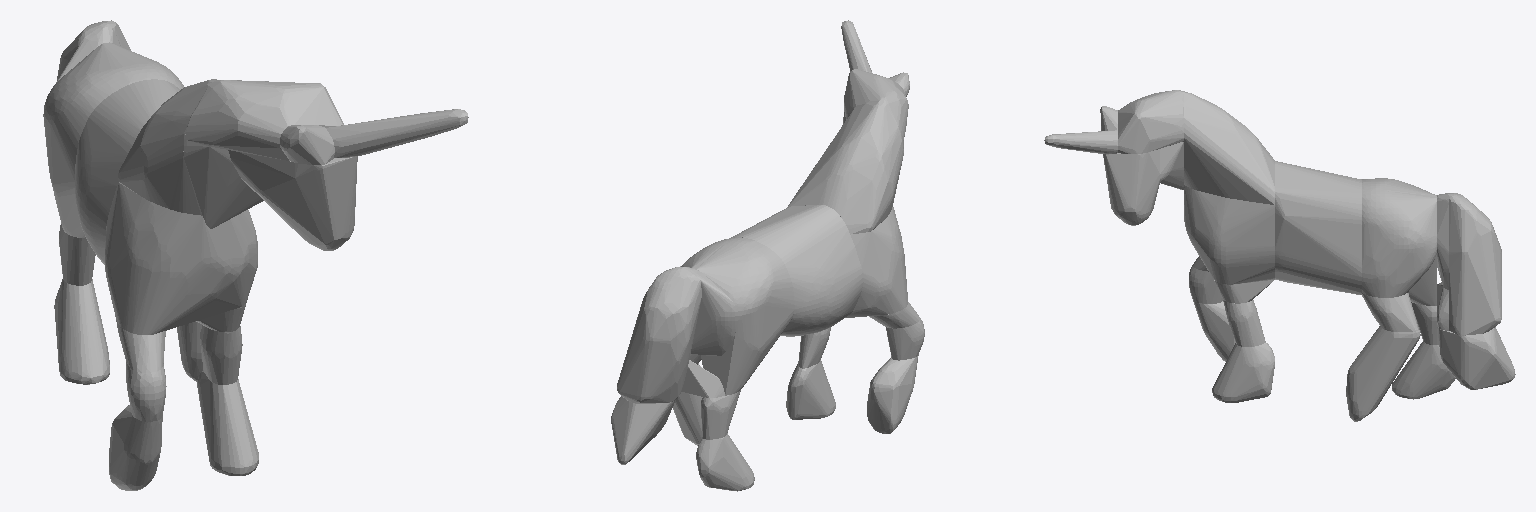
The robot description file, URDF, robot "root":
<robot name="root">
  <link name="link_coacd_convex_piece_0">
    <inertial>
      <origin xyz="0 0 0" rpy="0 0 0"/>
      <inertia ixx="5.14E-04" ixy="-2.61E-05" ixz="6.50E-06" iyy="3.85E-04" iyz="-4.79E-05" izz="4.89E-04"/>
    </inertial>
    <visual>
      <origin xyz="0 0 0" rpy="0 0 0"/>
      <geometry>
        <mesh filename="coacd_convex_piece_0.obj" scale="1.0000E+00 1.0000E+00 1.0000E+00"/>
      </geometry>
      <material name="">
        <color rgba="7.50E-01 7.50E-01 7.50E-01 1"/>
      </material>
    </visual>
    <collision>
      <origin xyz="0 0 0" rpy="0 0 0"/>
      <geometry>
        <mesh filename="coacd_convex_piece_0.obj" scale="1.0000E+00 1.0000E+00 1.0000E+00"/>
      </geometry>
    </collision>
  </link>
  <link name="link_coacd_convex_piece_1">
    <inertial>
      <origin xyz="0 0 0" rpy="0 0 0"/>
      <inertia ixx="2.38E-04" ixy="-5.37E-06" ixz="2.19E-06" iyy="4.73E-05" iyz="1.03E-04" izz="1.92E-04"/>
    </inertial>
    <visual>
      <origin xyz="0 0 0" rpy="0 0 0"/>
      <geometry>
        <mesh filename="coacd_convex_piece_1.obj" scale="1.0000E+00 1.0000E+00 1.0000E+00"/>
      </geometry>
      <material name="">
        <color rgba="7.50E-01 7.50E-01 7.50E-01 1"/>
      </material>
    </visual>
    <collision>
      <origin xyz="0 0 0" rpy="0 0 0"/>
      <geometry>
        <mesh filename="coacd_convex_piece_1.obj" scale="1.0000E+00 1.0000E+00 1.0000E+00"/>
      </geometry>
    </collision>
  </link>
  <joint name="link_coacd_convex_piece_1_joint" type="fixed">
    <origin xyz="0 0 0" rpy="0 0 0"/>
    <parent link="link_coacd_convex_piece_0"/>
    <child link="link_coacd_convex_piece_1"/>
  </joint>
  <link name="link_coacd_convex_piece_2">
    <inertial>
      <origin xyz="0 0 0" rpy="0 0 0"/>
      <inertia ixx="7.48E-04" ixy="-7.17E-06" ixz="3.53E-06" iyy="3.46E-04" iyz="3.87E-04" izz="4.05E-04"/>
    </inertial>
    <visual>
      <origin xyz="0 0 0" rpy="0 0 0"/>
      <geometry>
        <mesh filename="coacd_convex_piece_2.obj" scale="1.0000E+00 1.0000E+00 1.0000E+00"/>
      </geometry>
      <material name="">
        <color rgba="7.50E-01 7.50E-01 7.50E-01 1"/>
      </material>
    </visual>
    <collision>
      <origin xyz="0 0 0" rpy="0 0 0"/>
      <geometry>
        <mesh filename="coacd_convex_piece_2.obj" scale="1.0000E+00 1.0000E+00 1.0000E+00"/>
      </geometry>
    </collision>
  </link>
  <joint name="link_coacd_convex_piece_2_joint" type="fixed">
    <origin xyz="0 0 0" rpy="0 0 0"/>
    <parent link="link_coacd_convex_piece_1"/>
    <child link="link_coacd_convex_piece_2"/>
  </joint>
  <link name="link_coacd_convex_piece_3">
    <inertial>
      <origin xyz="0 0 0" rpy="0 0 0"/>
      <inertia ixx="3.46E-04" ixy="-3.35E-05" ixz="2.91E-05" iyy="1.67E-04" iyz="1.89E-04" izz="1.99E-04"/>
    </inertial>
    <visual>
      <origin xyz="0 0 0" rpy="0 0 0"/>
      <geometry>
        <mesh filename="coacd_convex_piece_3.obj" scale="1.0000E+00 1.0000E+00 1.0000E+00"/>
      </geometry>
      <material name="">
        <color rgba="7.50E-01 7.50E-01 7.50E-01 1"/>
      </material>
    </visual>
    <collision>
      <origin xyz="0 0 0" rpy="0 0 0"/>
      <geometry>
        <mesh filename="coacd_convex_piece_3.obj" scale="1.0000E+00 1.0000E+00 1.0000E+00"/>
      </geometry>
    </collision>
  </link>
  <joint name="link_coacd_convex_piece_3_joint" type="fixed">
    <origin xyz="0 0 0" rpy="0 0 0"/>
    <parent link="link_coacd_convex_piece_2"/>
    <child link="link_coacd_convex_piece_3"/>
  </joint>
  <link name="link_coacd_convex_piece_4">
    <inertial>
      <origin xyz="0 0 0" rpy="0 0 0"/>
      <inertia ixx="1.28E-03" ixy="7.86E-05" ixz="-4.33E-05" iyy="3.69E-04" iyz="6.01E-04" izz="9.44E-04"/>
    </inertial>
    <visual>
      <origin xyz="0 0 0" rpy="0 0 0"/>
      <geometry>
        <mesh filename="coacd_convex_piece_4.obj" scale="1.0000E+00 1.0000E+00 1.0000E+00"/>
      </geometry>
      <material name="">
        <color rgba="7.50E-01 7.50E-01 7.50E-01 1"/>
      </material>
    </visual>
    <collision>
      <origin xyz="0 0 0" rpy="0 0 0"/>
      <geometry>
        <mesh filename="coacd_convex_piece_4.obj" scale="1.0000E+00 1.0000E+00 1.0000E+00"/>
      </geometry>
    </collision>
  </link>
  <joint name="link_coacd_convex_piece_4_joint" type="fixed">
    <origin xyz="0 0 0" rpy="0 0 0"/>
    <parent link="link_coacd_convex_piece_3"/>
    <child link="link_coacd_convex_piece_4"/>
  </joint>
  <link name="link_coacd_convex_piece_5">
    <inertial>
      <origin xyz="0 0 0" rpy="0 0 0"/>
      <inertia ixx="1.48E-03" ixy="-4.25E-04" ixz="1.80E-04" iyy="3.71E-04" iyz="5.62E-04" izz="1.40E-03"/>
    </inertial>
    <visual>
      <origin xyz="0 0 0" rpy="0 0 0"/>
      <geometry>
        <mesh filename="coacd_convex_piece_5.obj" scale="1.0000E+00 1.0000E+00 1.0000E+00"/>
      </geometry>
      <material name="">
        <color rgba="7.50E-01 7.50E-01 7.50E-01 1"/>
      </material>
    </visual>
    <collision>
      <origin xyz="0 0 0" rpy="0 0 0"/>
      <geometry>
        <mesh filename="coacd_convex_piece_5.obj" scale="1.0000E+00 1.0000E+00 1.0000E+00"/>
      </geometry>
    </collision>
  </link>
  <joint name="link_coacd_convex_piece_5_joint" type="fixed">
    <origin xyz="0 0 0" rpy="0 0 0"/>
    <parent link="link_coacd_convex_piece_4"/>
    <child link="link_coacd_convex_piece_5"/>
  </joint>
  <link name="link_coacd_convex_piece_6">
    <inertial>
      <origin xyz="0 0 0" rpy="0 0 0"/>
      <inertia ixx="5.71E-04" ixy="-1.77E-04" ixz="1.86E-04" iyy="4.33E-04" iyz="2.93E-04" izz="3.70E-04"/>
    </inertial>
    <visual>
      <origin xyz="0 0 0" rpy="0 0 0"/>
      <geometry>
        <mesh filename="coacd_convex_piece_6.obj" scale="1.0000E+00 1.0000E+00 1.0000E+00"/>
      </geometry>
      <material name="">
        <color rgba="7.50E-01 7.50E-01 7.50E-01 1"/>
      </material>
    </visual>
    <collision>
      <origin xyz="0 0 0" rpy="0 0 0"/>
      <geometry>
        <mesh filename="coacd_convex_piece_6.obj" scale="1.0000E+00 1.0000E+00 1.0000E+00"/>
      </geometry>
    </collision>
  </link>
  <joint name="link_coacd_convex_piece_6_joint" type="fixed">
    <origin xyz="0 0 0" rpy="0 0 0"/>
    <parent link="link_coacd_convex_piece_5"/>
    <child link="link_coacd_convex_piece_6"/>
  </joint>
  <link name="link_coacd_convex_piece_7">
    <inertial>
      <origin xyz="0 0 0" rpy="0 0 0"/>
      <inertia ixx="1.39E-03" ixy="-3.78E-05" ixz="4.39E-05" iyy="7.65E-04" iyz="7.29E-04" izz="6.62E-04"/>
    </inertial>
    <visual>
      <origin xyz="0 0 0" rpy="0 0 0"/>
      <geometry>
        <mesh filename="coacd_convex_piece_7.obj" scale="1.0000E+00 1.0000E+00 1.0000E+00"/>
      </geometry>
      <material name="">
        <color rgba="7.50E-01 7.50E-01 7.50E-01 1"/>
      </material>
    </visual>
    <collision>
      <origin xyz="0 0 0" rpy="0 0 0"/>
      <geometry>
        <mesh filename="coacd_convex_piece_7.obj" scale="1.0000E+00 1.0000E+00 1.0000E+00"/>
      </geometry>
    </collision>
  </link>
  <joint name="link_coacd_convex_piece_7_joint" type="fixed">
    <origin xyz="0 0 0" rpy="0 0 0"/>
    <parent link="link_coacd_convex_piece_6"/>
    <child link="link_coacd_convex_piece_7"/>
  </joint>
  <link name="link_coacd_convex_piece_8">
    <inertial>
      <origin xyz="0 0 0" rpy="0 0 0"/>
      <inertia ixx="1.25E-03" ixy="-1.69E-04" ixz="2.57E-04" iyy="1.05E-03" iyz="6.37E-04" izz="4.28E-04"/>
    </inertial>
    <visual>
      <origin xyz="0 0 0" rpy="0 0 0"/>
      <geometry>
        <mesh filename="coacd_convex_piece_8.obj" scale="1.0000E+00 1.0000E+00 1.0000E+00"/>
      </geometry>
      <material name="">
        <color rgba="7.50E-01 7.50E-01 7.50E-01 1"/>
      </material>
    </visual>
    <collision>
      <origin xyz="0 0 0" rpy="0 0 0"/>
      <geometry>
        <mesh filename="coacd_convex_piece_8.obj" scale="1.0000E+00 1.0000E+00 1.0000E+00"/>
      </geometry>
    </collision>
  </link>
  <joint name="link_coacd_convex_piece_8_joint" type="fixed">
    <origin xyz="0 0 0" rpy="0 0 0"/>
    <parent link="link_coacd_convex_piece_7"/>
    <child link="link_coacd_convex_piece_8"/>
  </joint>
  <link name="link_coacd_convex_piece_9">
    <inertial>
      <origin xyz="0 0 0" rpy="0 0 0"/>
      <inertia ixx="3.94E-04" ixy="6.58E-05" ixz="-4.75E-05" iyy="1.53E-04" iyz="1.94E-04" izz="2.77E-04"/>
    </inertial>
    <visual>
      <origin xyz="0 0 0" rpy="0 0 0"/>
      <geometry>
        <mesh filename="coacd_convex_piece_9.obj" scale="1.0000E+00 1.0000E+00 1.0000E+00"/>
      </geometry>
      <material name="">
        <color rgba="7.50E-01 7.50E-01 7.50E-01 1"/>
      </material>
    </visual>
    <collision>
      <origin xyz="0 0 0" rpy="0 0 0"/>
      <geometry>
        <mesh filename="coacd_convex_piece_9.obj" scale="1.0000E+00 1.0000E+00 1.0000E+00"/>
      </geometry>
    </collision>
  </link>
  <joint name="link_coacd_convex_piece_9_joint" type="fixed">
    <origin xyz="0 0 0" rpy="0 0 0"/>
    <parent link="link_coacd_convex_piece_8"/>
    <child link="link_coacd_convex_piece_9"/>
  </joint>
  <link name="link_coacd_convex_piece_10">
    <inertial>
      <origin xyz="0 0 0" rpy="0 0 0"/>
      <inertia ixx="7.03E-05" ixy="-4.04E-05" ixz="-3.95E-05" iyy="7.69E-05" iyz="-3.48E-05" izz="7.49E-05"/>
    </inertial>
    <visual>
      <origin xyz="0 0 0" rpy="0 0 0"/>
      <geometry>
        <mesh filename="coacd_convex_piece_10.obj" scale="1.0000E+00 1.0000E+00 1.0000E+00"/>
      </geometry>
      <material name="">
        <color rgba="7.50E-01 7.50E-01 7.50E-01 1"/>
      </material>
    </visual>
    <collision>
      <origin xyz="0 0 0" rpy="0 0 0"/>
      <geometry>
        <mesh filename="coacd_convex_piece_10.obj" scale="1.0000E+00 1.0000E+00 1.0000E+00"/>
      </geometry>
    </collision>
  </link>
  <joint name="link_coacd_convex_piece_10_joint" type="fixed">
    <origin xyz="0 0 0" rpy="0 0 0"/>
    <parent link="link_coacd_convex_piece_9"/>
    <child link="link_coacd_convex_piece_10"/>
  </joint>
  <link name="link_coacd_convex_piece_11">
    <inertial>
      <origin xyz="0 0 0" rpy="0 0 0"/>
      <inertia ixx="3.37E-04" ixy="5.94E-06" ixz="2.71E-05" iyy="3.29E-04" iyz="-7.66E-05" izz="1.48E-05"/>
    </inertial>
    <visual>
      <origin xyz="0 0 0" rpy="0 0 0"/>
      <geometry>
        <mesh filename="coacd_convex_piece_11.obj" scale="1.0000E+00 1.0000E+00 1.0000E+00"/>
      </geometry>
      <material name="">
        <color rgba="7.50E-01 7.50E-01 7.50E-01 1"/>
      </material>
    </visual>
    <collision>
      <origin xyz="0 0 0" rpy="0 0 0"/>
      <geometry>
        <mesh filename="coacd_convex_piece_11.obj" scale="1.0000E+00 1.0000E+00 1.0000E+00"/>
      </geometry>
    </collision>
  </link>
  <joint name="link_coacd_convex_piece_11_joint" type="fixed">
    <origin xyz="0 0 0" rpy="0 0 0"/>
    <parent link="link_coacd_convex_piece_10"/>
    <child link="link_coacd_convex_piece_11"/>
  </joint>
  <link name="link_coacd_convex_piece_12">
    <inertial>
      <origin xyz="0 0 0" rpy="0 0 0"/>
      <inertia ixx="1.52E-04" ixy="-1.55E-06" ixz="1.06E-06" iyy="5.85E-05" iyz="7.72E-05" izz="9.38E-05"/>
    </inertial>
    <visual>
      <origin xyz="0 0 0" rpy="0 0 0"/>
      <geometry>
        <mesh filename="coacd_convex_piece_12.obj" scale="1.0000E+00 1.0000E+00 1.0000E+00"/>
      </geometry>
      <material name="">
        <color rgba="7.50E-01 7.50E-01 7.50E-01 1"/>
      </material>
    </visual>
    <collision>
      <origin xyz="0 0 0" rpy="0 0 0"/>
      <geometry>
        <mesh filename="coacd_convex_piece_12.obj" scale="1.0000E+00 1.0000E+00 1.0000E+00"/>
      </geometry>
    </collision>
  </link>
  <joint name="link_coacd_convex_piece_12_joint" type="fixed">
    <origin xyz="0 0 0" rpy="0 0 0"/>
    <parent link="link_coacd_convex_piece_11"/>
    <child link="link_coacd_convex_piece_12"/>
  </joint>
  <link name="link_coacd_convex_piece_13">
    <inertial>
      <origin xyz="0 0 0" rpy="0 0 0"/>
      <inertia ixx="4.74E-05" ixy="1.39E-06" ixz="3.66E-06" iyy="4.33E-05" iyz="-1.67E-05" izz="5.31E-06"/>
    </inertial>
    <visual>
      <origin xyz="0 0 0" rpy="0 0 0"/>
      <geometry>
        <mesh filename="coacd_convex_piece_13.obj" scale="1.0000E+00 1.0000E+00 1.0000E+00"/>
      </geometry>
      <material name="">
        <color rgba="7.50E-01 7.50E-01 7.50E-01 1"/>
      </material>
    </visual>
    <collision>
      <origin xyz="0 0 0" rpy="0 0 0"/>
      <geometry>
        <mesh filename="coacd_convex_piece_13.obj" scale="1.0000E+00 1.0000E+00 1.0000E+00"/>
      </geometry>
    </collision>
  </link>
  <joint name="link_coacd_convex_piece_13_joint" type="fixed">
    <origin xyz="0 0 0" rpy="0 0 0"/>
    <parent link="link_coacd_convex_piece_12"/>
    <child link="link_coacd_convex_piece_13"/>
  </joint>
  <link name="link_coacd_convex_piece_14">
    <inertial>
      <origin xyz="0 0 0" rpy="0 0 0"/>
      <inertia ixx="1.84E-03" ixy="8.50E-06" ixz="-3.60E-06" iyy="1.41E-04" iyz="-1.37E-04" izz="1.76E-03"/>
    </inertial>
    <visual>
      <origin xyz="0 0 0" rpy="0 0 0"/>
      <geometry>
        <mesh filename="coacd_convex_piece_14.obj" scale="1.0000E+00 1.0000E+00 1.0000E+00"/>
      </geometry>
      <material name="">
        <color rgba="7.50E-01 7.50E-01 7.50E-01 1"/>
      </material>
    </visual>
    <collision>
      <origin xyz="0 0 0" rpy="0 0 0"/>
      <geometry>
        <mesh filename="coacd_convex_piece_14.obj" scale="1.0000E+00 1.0000E+00 1.0000E+00"/>
      </geometry>
    </collision>
  </link>
  <joint name="link_coacd_convex_piece_14_joint" type="fixed">
    <origin xyz="0 0 0" rpy="0 0 0"/>
    <parent link="link_coacd_convex_piece_13"/>
    <child link="link_coacd_convex_piece_14"/>
  </joint>
  <link name="link_coacd_convex_piece_15">
    <inertial>
      <origin xyz="0 0 0" rpy="0 0 0"/>
      <inertia ixx="3.21E-04" ixy="-6.92E-05" ixz="-1.57E-04" iyy="3.69E-04" iyz="-1.10E-04" izz="1.30E-04"/>
    </inertial>
    <visual>
      <origin xyz="0 0 0" rpy="0 0 0"/>
      <geometry>
        <mesh filename="coacd_convex_piece_15.obj" scale="1.0000E+00 1.0000E+00 1.0000E+00"/>
      </geometry>
      <material name="">
        <color rgba="7.50E-01 7.50E-01 7.50E-01 1"/>
      </material>
    </visual>
    <collision>
      <origin xyz="0 0 0" rpy="0 0 0"/>
      <geometry>
        <mesh filename="coacd_convex_piece_15.obj" scale="1.0000E+00 1.0000E+00 1.0000E+00"/>
      </geometry>
    </collision>
  </link>
  <joint name="link_coacd_convex_piece_15_joint" type="fixed">
    <origin xyz="0 0 0" rpy="0 0 0"/>
    <parent link="link_coacd_convex_piece_14"/>
    <child link="link_coacd_convex_piece_15"/>
  </joint>
  <link name="link_coacd_convex_piece_16">
    <inertial>
      <origin xyz="0 0 0" rpy="0 0 0"/>
      <inertia ixx="3.96E-04" ixy="-2.43E-04" ixz="5.27E-05" iyy="3.44E-04" iyz="2.09E-04" izz="5.76E-04"/>
    </inertial>
    <visual>
      <origin xyz="0 0 0" rpy="0 0 0"/>
      <geometry>
        <mesh filename="coacd_convex_piece_16.obj" scale="1.0000E+00 1.0000E+00 1.0000E+00"/>
      </geometry>
      <material name="">
        <color rgba="7.50E-01 7.50E-01 7.50E-01 1"/>
      </material>
    </visual>
    <collision>
      <origin xyz="0 0 0" rpy="0 0 0"/>
      <geometry>
        <mesh filename="coacd_convex_piece_16.obj" scale="1.0000E+00 1.0000E+00 1.0000E+00"/>
      </geometry>
    </collision>
  </link>
  <joint name="link_coacd_convex_piece_16_joint" type="fixed">
    <origin xyz="0 0 0" rpy="0 0 0"/>
    <parent link="link_coacd_convex_piece_15"/>
    <child link="link_coacd_convex_piece_16"/>
  </joint>
  <link name="link_coacd_convex_piece_17">
    <inertial>
      <origin xyz="0 0 0" rpy="0 0 0"/>
      <inertia ixx="2.95E-03" ixy="-7.16E-04" ixz="1.77E-05" iyy="2.50E-04" iyz="6.10E-05" izz="3.08E-03"/>
    </inertial>
    <visual>
      <origin xyz="0 0 0" rpy="0 0 0"/>
      <geometry>
        <mesh filename="coacd_convex_piece_17.obj" scale="1.0000E+00 1.0000E+00 1.0000E+00"/>
      </geometry>
      <material name="">
        <color rgba="7.50E-01 7.50E-01 7.50E-01 1"/>
      </material>
    </visual>
    <collision>
      <origin xyz="0 0 0" rpy="0 0 0"/>
      <geometry>
        <mesh filename="coacd_convex_piece_17.obj" scale="1.0000E+00 1.0000E+00 1.0000E+00"/>
      </geometry>
    </collision>
  </link>
  <joint name="link_coacd_convex_piece_17_joint" type="fixed">
    <origin xyz="0 0 0" rpy="0 0 0"/>
    <parent link="link_coacd_convex_piece_16"/>
    <child link="link_coacd_convex_piece_17"/>
  </joint>
  <link name="link_coacd_convex_piece_18">
    <inertial>
      <origin xyz="0 0 0" rpy="0 0 0"/>
      <inertia ixx="1.80E-05" ixy="-1.43E-06" ixz="-2.05E-06" iyy="1.40E-05" iyz="-8.25E-06" izz="7.07E-06"/>
    </inertial>
    <visual>
      <origin xyz="0 0 0" rpy="0 0 0"/>
      <geometry>
        <mesh filename="coacd_convex_piece_18.obj" scale="1.0000E+00 1.0000E+00 1.0000E+00"/>
      </geometry>
      <material name="">
        <color rgba="7.50E-01 7.50E-01 7.50E-01 1"/>
      </material>
    </visual>
    <collision>
      <origin xyz="0 0 0" rpy="0 0 0"/>
      <geometry>
        <mesh filename="coacd_convex_piece_18.obj" scale="1.0000E+00 1.0000E+00 1.0000E+00"/>
      </geometry>
    </collision>
  </link>
  <joint name="link_coacd_convex_piece_18_joint" type="fixed">
    <origin xyz="0 0 0" rpy="0 0 0"/>
    <parent link="link_coacd_convex_piece_17"/>
    <child link="link_coacd_convex_piece_18"/>
  </joint>
  <link name="link_coacd_convex_piece_19">
    <inertial>
      <origin xyz="0 0 0" rpy="0 0 0"/>
      <inertia ixx="2.69E-05" ixy="-2.56E-05" ixz="-1.86E-05" iyy="3.90E-05" iyz="-1.25E-05" izz="4.72E-05"/>
    </inertial>
    <visual>
      <origin xyz="0 0 0" rpy="0 0 0"/>
      <geometry>
        <mesh filename="coacd_convex_piece_19.obj" scale="1.0000E+00 1.0000E+00 1.0000E+00"/>
      </geometry>
      <material name="">
        <color rgba="7.50E-01 7.50E-01 7.50E-01 1"/>
      </material>
    </visual>
    <collision>
      <origin xyz="0 0 0" rpy="0 0 0"/>
      <geometry>
        <mesh filename="coacd_convex_piece_19.obj" scale="1.0000E+00 1.0000E+00 1.0000E+00"/>
      </geometry>
    </collision>
  </link>
  <joint name="link_coacd_convex_piece_19_joint" type="fixed">
    <origin xyz="0 0 0" rpy="0 0 0"/>
    <parent link="link_coacd_convex_piece_18"/>
    <child link="link_coacd_convex_piece_19"/>
  </joint>
  <link name="link_coacd_convex_piece_20">
    <inertial>
      <origin xyz="0 0 0" rpy="0 0 0"/>
      <inertia ixx="4.25E-04" ixy="-6.61E-05" ixz="-9.61E-06" iyy="2.70E-05" iyz="-5.63E-05" izz="4.28E-04"/>
    </inertial>
    <visual>
      <origin xyz="0 0 0" rpy="0 0 0"/>
      <geometry>
        <mesh filename="coacd_convex_piece_20.obj" scale="1.0000E+00 1.0000E+00 1.0000E+00"/>
      </geometry>
      <material name="">
        <color rgba="7.50E-01 7.50E-01 7.50E-01 1"/>
      </material>
    </visual>
    <collision>
      <origin xyz="0 0 0" rpy="0 0 0"/>
      <geometry>
        <mesh filename="coacd_convex_piece_20.obj" scale="1.0000E+00 1.0000E+00 1.0000E+00"/>
      </geometry>
    </collision>
  </link>
  <joint name="link_coacd_convex_piece_20_joint" type="fixed">
    <origin xyz="0 0 0" rpy="0 0 0"/>
    <parent link="link_coacd_convex_piece_19"/>
    <child link="link_coacd_convex_piece_20"/>
  </joint>
  <link name="link_coacd_convex_piece_21">
    <inertial>
      <origin xyz="0 0 0" rpy="0 0 0"/>
      <inertia ixx="1.85E-04" ixy="-4.37E-05" ixz="1.06E-05" iyy="2.28E-05" iyz="4.96E-05" izz="1.88E-04"/>
    </inertial>
    <visual>
      <origin xyz="0 0 0" rpy="0 0 0"/>
      <geometry>
        <mesh filename="coacd_convex_piece_21.obj" scale="1.0000E+00 1.0000E+00 1.0000E+00"/>
      </geometry>
      <material name="">
        <color rgba="7.50E-01 7.50E-01 7.50E-01 1"/>
      </material>
    </visual>
    <collision>
      <origin xyz="0 0 0" rpy="0 0 0"/>
      <geometry>
        <mesh filename="coacd_convex_piece_21.obj" scale="1.0000E+00 1.0000E+00 1.0000E+00"/>
      </geometry>
    </collision>
  </link>
  <joint name="link_coacd_convex_piece_21_joint" type="fixed">
    <origin xyz="0 0 0" rpy="0 0 0"/>
    <parent link="link_coacd_convex_piece_20"/>
    <child link="link_coacd_convex_piece_21"/>
  </joint>
  <link name="link_coacd_convex_piece_22">
    <inertial>
      <origin xyz="0 0 0" rpy="0 0 0"/>
      <inertia ixx="8.95E-04" ixy="-3.34E-04" ixz="-5.98E-05" iyy="1.80E-04" iyz="-1.33E-04" izz="9.84E-04"/>
    </inertial>
    <visual>
      <origin xyz="0 0 0" rpy="0 0 0"/>
      <geometry>
        <mesh filename="coacd_convex_piece_22.obj" scale="1.0000E+00 1.0000E+00 1.0000E+00"/>
      </geometry>
      <material name="">
        <color rgba="7.50E-01 7.50E-01 7.50E-01 1"/>
      </material>
    </visual>
    <collision>
      <origin xyz="0 0 0" rpy="0 0 0"/>
      <geometry>
        <mesh filename="coacd_convex_piece_22.obj" scale="1.0000E+00 1.0000E+00 1.0000E+00"/>
      </geometry>
    </collision>
  </link>
  <joint name="link_coacd_convex_piece_22_joint" type="fixed">
    <origin xyz="0 0 0" rpy="0 0 0"/>
    <parent link="link_coacd_convex_piece_21"/>
    <child link="link_coacd_convex_piece_22"/>
  </joint>
  <link name="link_coacd_convex_piece_23">
    <inertial>
      <origin xyz="0 0 0" rpy="0 0 0"/>
      <inertia ixx="1.48E-04" ixy="-7.35E-05" ixz="2.49E-05" iyy="5.18E-05" iyz="5.50E-05" izz="1.73E-04"/>
    </inertial>
    <visual>
      <origin xyz="0 0 0" rpy="0 0 0"/>
      <geometry>
        <mesh filename="coacd_convex_piece_23.obj" scale="1.0000E+00 1.0000E+00 1.0000E+00"/>
      </geometry>
      <material name="">
        <color rgba="7.50E-01 7.50E-01 7.50E-01 1"/>
      </material>
    </visual>
    <collision>
      <origin xyz="0 0 0" rpy="0 0 0"/>
      <geometry>
        <mesh filename="coacd_convex_piece_23.obj" scale="1.0000E+00 1.0000E+00 1.0000E+00"/>
      </geometry>
    </collision>
  </link>
  <joint name="link_coacd_convex_piece_23_joint" type="fixed">
    <origin xyz="0 0 0" rpy="0 0 0"/>
    <parent link="link_coacd_convex_piece_22"/>
    <child link="link_coacd_convex_piece_23"/>
  </joint>
</robot>

--- Facts derived from the render (not from the file) ---
The picture shows the robot from 3 angles, left to right: view 1: azimuth 30°, elevation 25°; view 2: azimuth 150°, elevation 25°; view 3: azimuth 270°, elevation 25°; orthographic projection.
Model root with 24 links and 23 joints (23 fixed), rooted at link_coacd_convex_piece_0, posed every joint at zero.
Links seen in each view (by area): view 1: link_coacd_convex_piece_16, link_coacd_convex_piece_7, link_coacd_convex_piece_4, link_coacd_convex_piece_0, link_coacd_convex_piece_14, link_coacd_convex_piece_8, link_coacd_convex_piece_2, link_coacd_convex_piece_11, link_coacd_convex_piece_3, link_coacd_convex_piece_9, link_coacd_convex_piece_15, link_coacd_convex_piece_13 (+9 smaller); view 2: link_coacd_convex_piece_0, link_coacd_convex_piece_8, link_coacd_convex_piece_14, link_coacd_convex_piece_17, link_coacd_convex_piece_16, link_coacd_convex_piece_15, link_coacd_convex_piece_20, link_coacd_convex_piece_5, link_coacd_convex_piece_2, link_coacd_convex_piece_7, link_coacd_convex_piece_11, link_coacd_convex_piece_1 (+6 smaller); view 3: link_coacd_convex_piece_0, link_coacd_convex_piece_8, link_coacd_convex_piece_22, link_coacd_convex_piece_16, link_coacd_convex_piece_17, link_coacd_convex_piece_6, link_coacd_convex_piece_7, link_coacd_convex_piece_5, link_coacd_convex_piece_4, link_coacd_convex_piece_11, link_coacd_convex_piece_2, link_coacd_convex_piece_14 (+9 smaller).
Boxes of the visible links, left/top/right/bottom form: link_coacd_convex_piece_16: left=105, top=181, right=257, bottom=334; link_coacd_convex_piece_7: left=185, top=80, right=343, bottom=160; link_coacd_convex_piece_4: left=228, top=150, right=357, bottom=250; link_coacd_convex_piece_0: left=75, top=79, right=179, bottom=264; link_coacd_convex_piece_14: left=43, top=44, right=157, bottom=237; link_coacd_convex_piece_8: left=118, top=79, right=216, bottom=215; link_coacd_convex_piece_2: left=54, top=279, right=109, bottom=384; link_coacd_convex_piece_11: left=197, top=370, right=258, bottom=475; link_coacd_convex_piece_3: left=184, top=140, right=263, bottom=228; link_coacd_convex_piece_9: left=326, top=109, right=468, bottom=157; link_coacd_convex_piece_15: left=109, top=405, right=162, bottom=490; link_coacd_convex_piece_13: left=200, top=325, right=242, bottom=384; link_coacd_convex_piece_0: left=731, top=205, right=862, bottom=336; link_coacd_convex_piece_8: left=787, top=101, right=903, bottom=234; link_coacd_convex_piece_14: left=697, top=237, right=794, bottom=395; link_coacd_convex_piece_17: left=617, top=267, right=701, bottom=403; link_coacd_convex_piece_16: left=845, top=207, right=907, bottom=317; link_coacd_convex_piece_15: left=867, top=354, right=918, bottom=433; link_coacd_convex_piece_20: left=680, top=266, right=737, bottom=355; link_coacd_convex_piece_5: left=611, top=396, right=674, bottom=464; link_coacd_convex_piece_2: left=696, top=433, right=754, bottom=491; link_coacd_convex_piece_7: left=844, top=69, right=908, bottom=141; link_coacd_convex_piece_11: left=786, top=360, right=835, bottom=419; link_coacd_convex_piece_1: left=701, top=390, right=740, bottom=439; link_coacd_convex_piece_0: left=1275, top=161, right=1361, bottom=294; link_coacd_convex_piece_8: left=1184, top=91, right=1274, bottom=204; link_coacd_convex_piece_22: left=1362, top=191, right=1436, bottom=297; link_coacd_convex_piece_16: left=1184, top=185, right=1274, bottom=284; link_coacd_convex_piece_17: left=1449, top=193, right=1501, bottom=335; link_coacd_convex_piece_6: left=1346, top=326, right=1420, bottom=421; link_coacd_convex_piece_7: left=1118, top=90, right=1183, bottom=153; link_coacd_convex_piece_5: left=1437, top=327, right=1515, bottom=389; link_coacd_convex_piece_4: left=1103, top=149, right=1159, bottom=225; link_coacd_convex_piece_11: left=1212, top=343, right=1274, bottom=402; link_coacd_convex_piece_2: left=1392, top=341, right=1455, bottom=399; link_coacd_convex_piece_14: left=1362, top=178, right=1436, bottom=305.
Size in the robot's own frame: 0.5823 by 1.55 by 1.07 metres.
24 mesh visuals loaded from 24 distinct referenced files (24 OBJ).